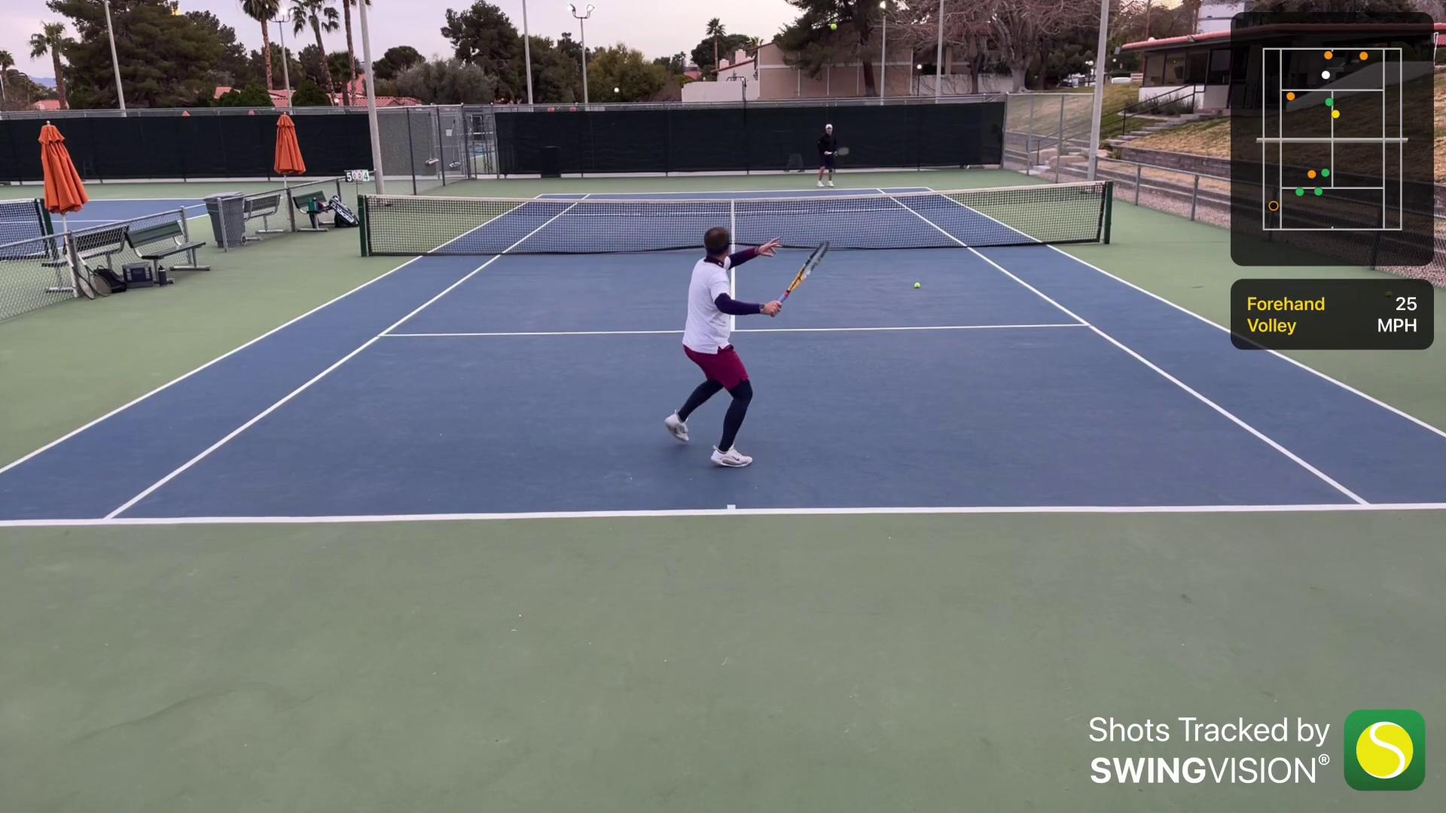ball: (828, 21, 838, 32), (912, 282, 923, 290)
